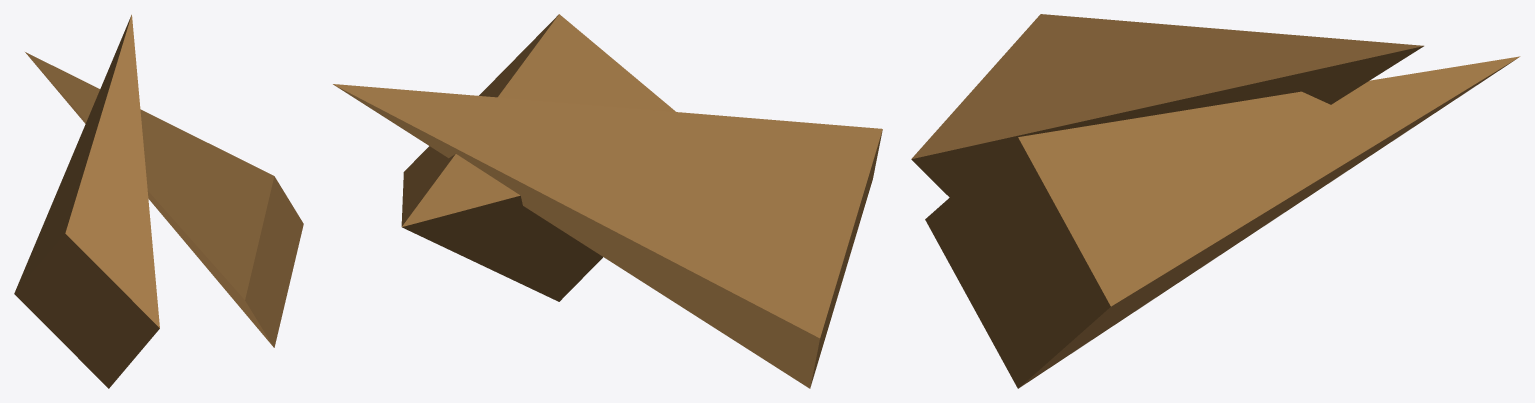
File: studBronze.glb
The picture shows the model from 3 angles, left to right: view 1: azimuth 30°, elevation 25°; view 2: azimuth 150°, elevation 25°; view 3: azimuth 270°, elevation 25°; orthographic projection. The views are drawn at different scales.
Visible parts, largest first — view 1: stud plain Silver; view 2: stud plain Silver; view 3: stud plain Silver.
Boxes of the visible parts, x1,y1,x2,y2 form: stud plain Silver: [14, 14, 303, 388]; stud plain Silver: [333, 14, 882, 388]; stud plain Silver: [911, 14, 1520, 388].
Size of the model in its own units: 0.022 by 0.0188 by 0.0296.
